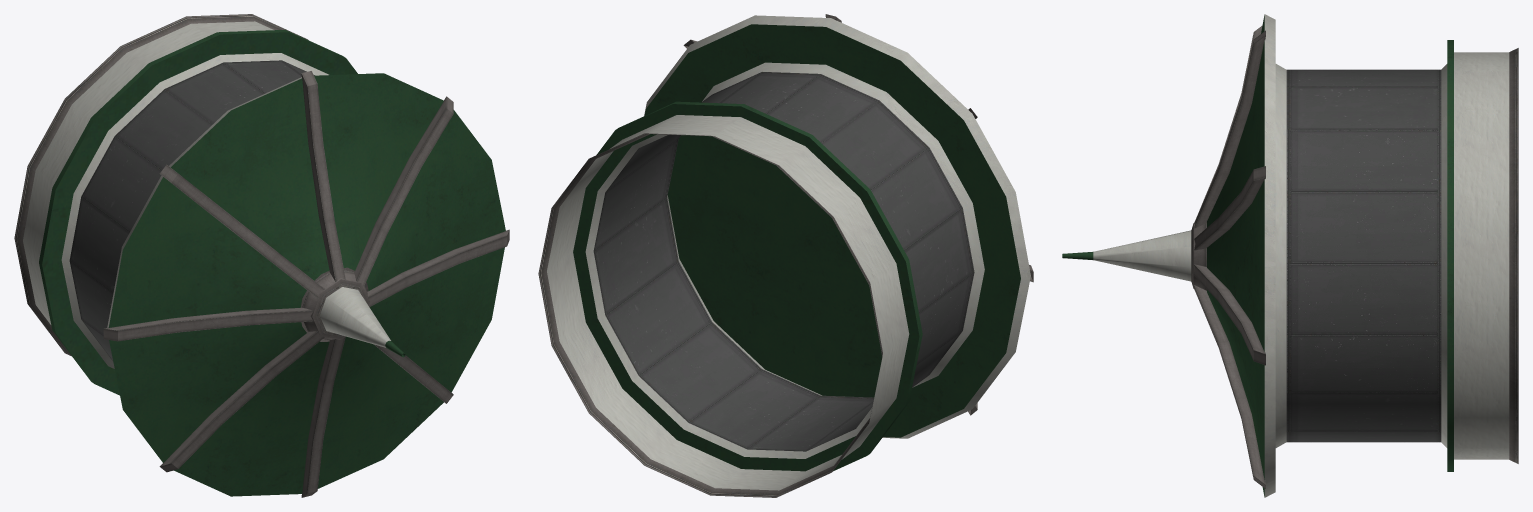
The model's file is nt_2020_vista_kiosk_red_LOD0.obj.
The picture shows the model from 3 angles, left to right: view 1: azimuth 30°, elevation 25°; view 2: azimuth 150°, elevation 25°; view 3: azimuth 270°, elevation 25°; orthographic projection. The views are drawn at different scales.
Visible parts, largest first — view 1: mtl_nt_2020_plastic_red_roof, metal_trim_black_clean, facade_glass_window_01_gray, plaster_whitewall_01; view 2: mtl_nt_2020_plastic_red_roof, facade_glass_window_01_gray, plaster_whitewall_01, metal_trim_black_clean; view 3: facade_glass_window_01_gray, plaster_whitewall_01, mtl_nt_2020_plastic_red_roof, metal_trim_black_clean.
Boxes of the visible parts, box(x1,y1,x2,y2) form: mtl_nt_2020_plastic_red_roof: box(39, 29, 505, 496); metal_trim_black_clean: box(14, 14, 509, 497); facade_glass_window_01_gray: box(69, 60, 314, 361); plaster_whitewall_01: box(23, 21, 390, 368); mtl_nt_2020_plastic_red_roof: box(573, 24, 1020, 471); facade_glass_window_01_gray: box(593, 72, 974, 451); plaster_whitewall_01: box(547, 15, 1030, 490); metal_trim_black_clean: box(538, 14, 1033, 497); facade_glass_window_01_gray: box(1286, 69, 1441, 442); plaster_whitewall_01: box(1093, 14, 1509, 497); mtl_nt_2020_plastic_red_roof: box(1062, 15, 1453, 496); metal_trim_black_clean: box(1191, 25, 1518, 488).
Bounding box in the file's own units: 740 × 740 × 686.
